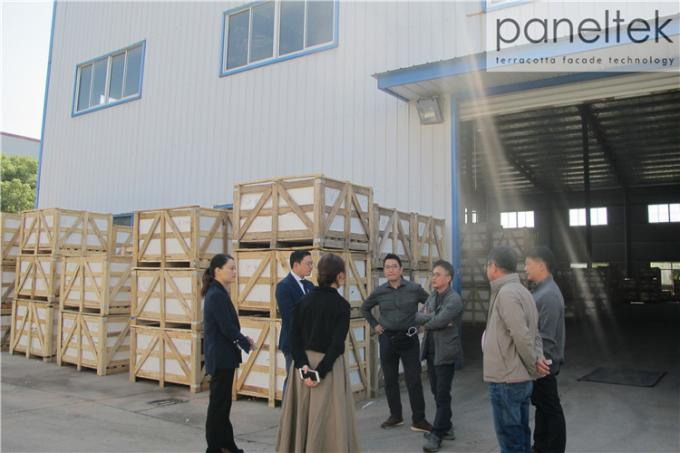noepi: (299, 249, 362, 453), (523, 246, 577, 451), (195, 251, 249, 453), (364, 253, 424, 428), (484, 246, 533, 453), (422, 258, 463, 453), (274, 244, 316, 321)
